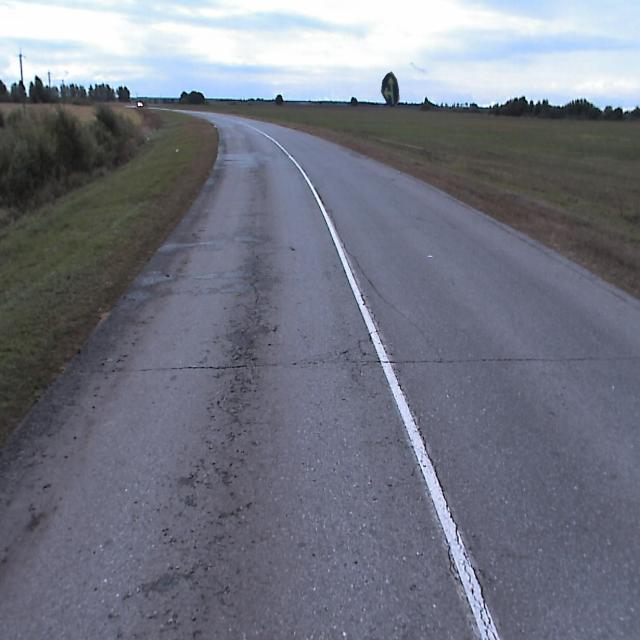road: (0, 109, 639, 639)
